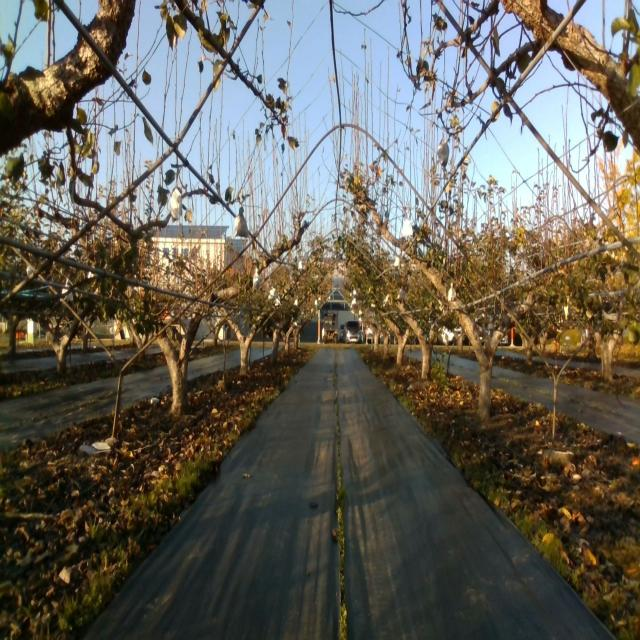pearbags: (234, 206, 250, 240), (170, 187, 183, 220), (438, 138, 450, 166)
